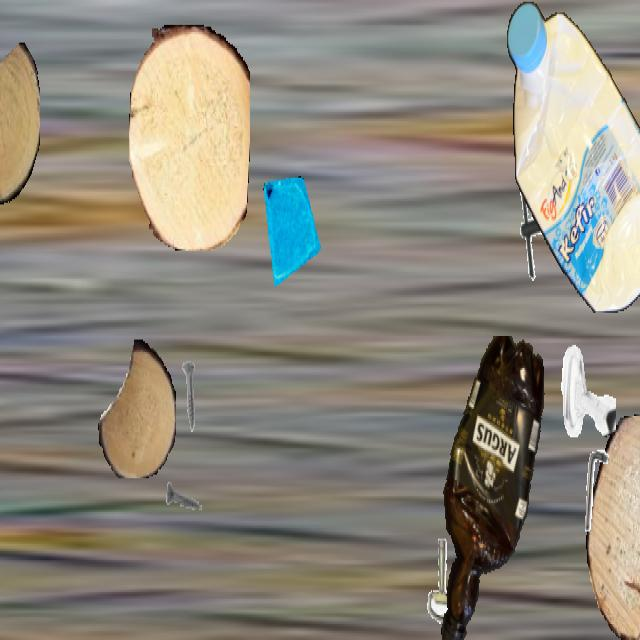glass: (260, 176, 324, 290)
metal: (509, 176, 569, 283), (558, 340, 616, 442), (417, 532, 473, 631), (571, 442, 625, 538), (169, 359, 211, 434), (165, 459, 207, 533)
plastic: (507, 2, 640, 311), (431, 336, 551, 638)
wood: (129, 25, 249, 249), (586, 414, 640, 638), (98, 340, 176, 478), (0, 41, 40, 204)
